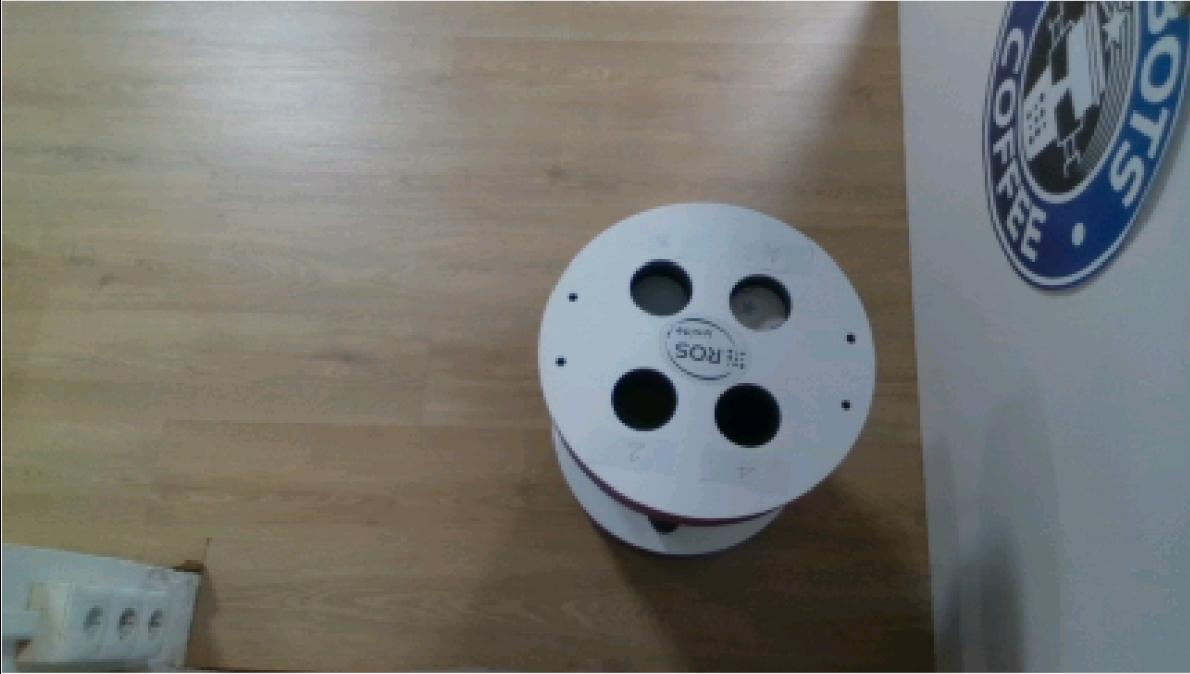hole: (711, 379, 784, 450), (610, 364, 679, 433), (727, 268, 798, 334), (628, 252, 696, 319)
